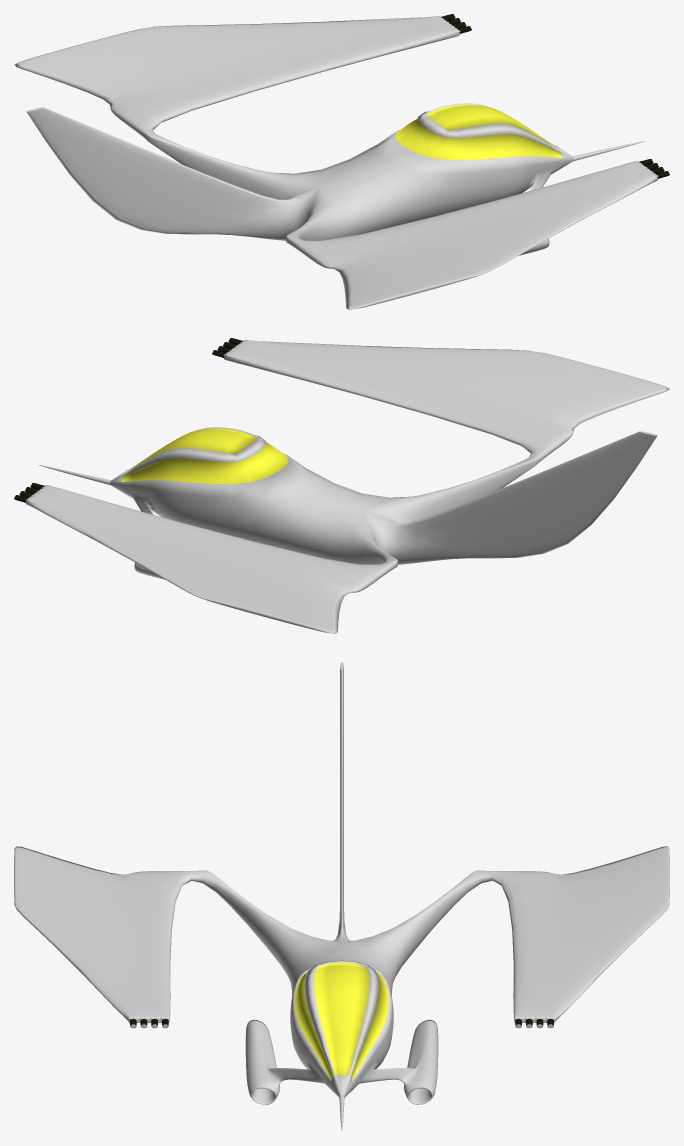
The model's file is chasseur_biplace.obj.
3 renders of one model, top to bottom at view 1: azimuth 30°, elevation 25°; view 2: azimuth 150°, elevation 25°; view 3: azimuth 270°, elevation 25°, orthographic. The views are drawn at different scales.
Visible parts, largest first — view 1: cube1_default2, cube1_default3, cube1_default4; view 2: cube1_default2, cube1_default3, cube1_default4; view 3: cube1_default2, cube1_default3.
Part boxes in pixels (<box>): cube1_default2: <box>14,16,658,309</box>; cube1_default3: <box>395,104,562,160</box>; cube1_default4: <box>441,14,669,178</box>; cube1_default2: <box>25,340,669,633</box>; cube1_default3: <box>121,428,288,484</box>; cube1_default4: <box>14,338,242,502</box>; cube1_default2: <box>14,662,669,1130</box>; cube1_default3: <box>295,962,388,1079</box>.
Bounding box in the file's own units: 13.5 × 4.65 × 12.72.
